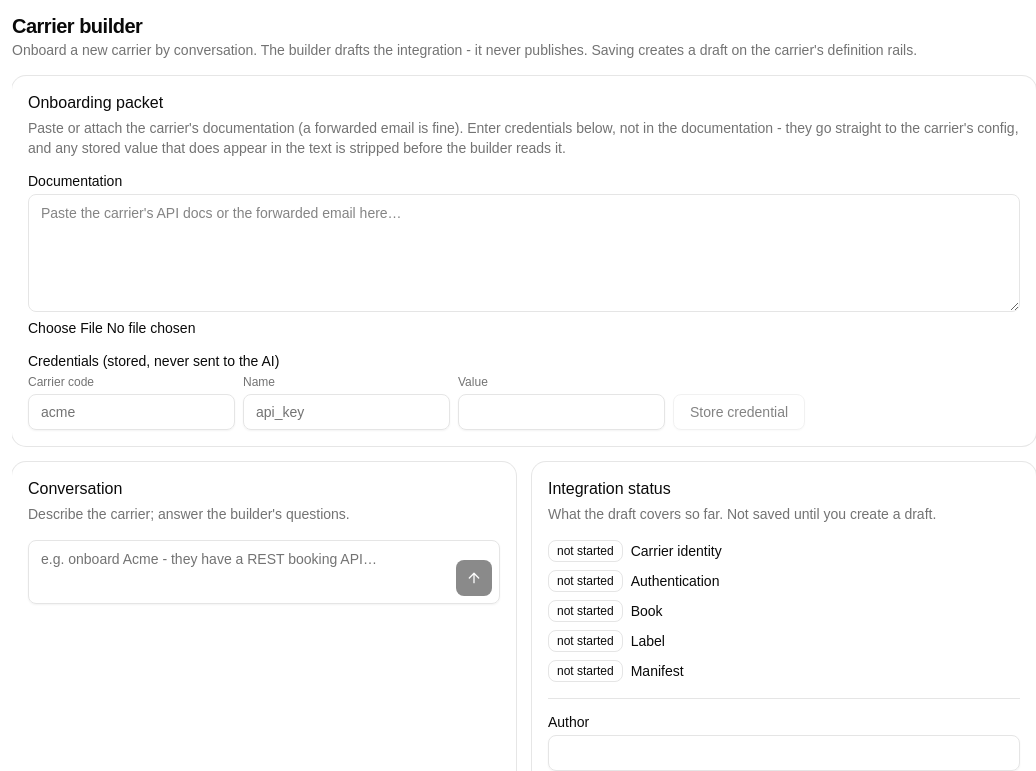
CarrierBuilderPage › lists what is still needed from the check outcome
The image size is (1036, 771).
In the text box named "message the carrier builder": (264, 572) [28,540,500,604], type "onboard acme"
Then press Enter
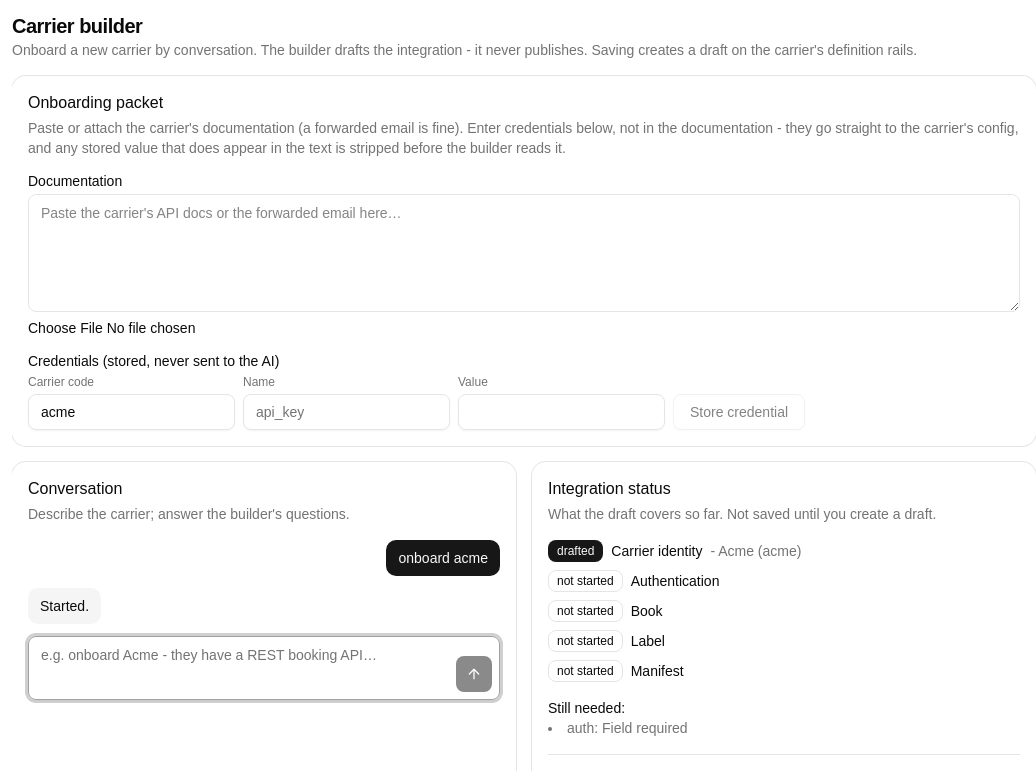
Check: the text "Still needed:" is shown, box [548,700,625,716]
Check: the list item "auth: Field required" is shown, box [567,720,688,736]
